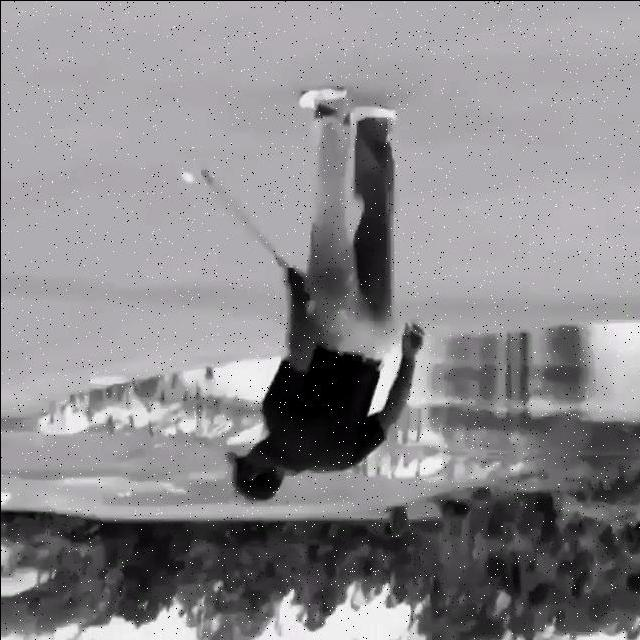golf ball: (182, 171, 192, 180)
golf club-handle: (199, 167, 309, 302)
golf club-head: (200, 168, 216, 185)
